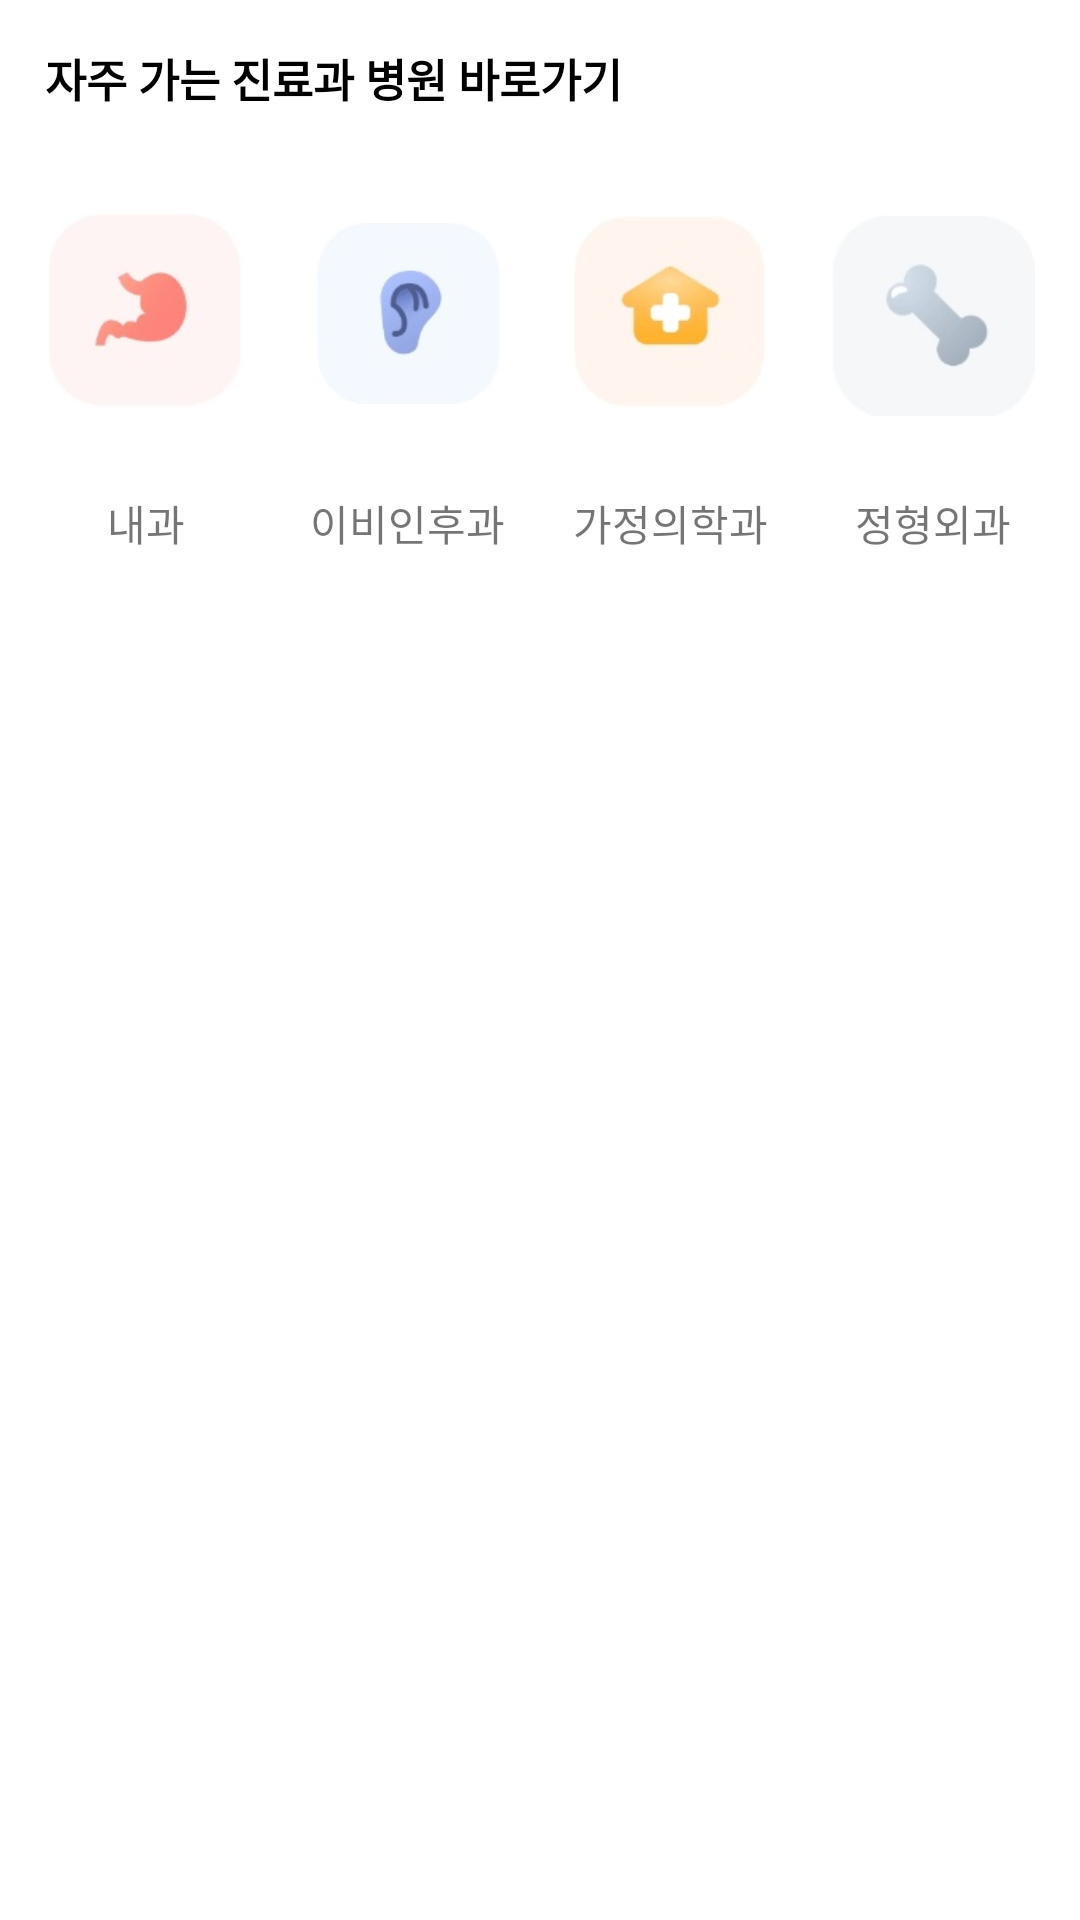

Screen size 1080 x 1920. Icon name, then its center in pixels as point (x, y):
home favorite bones: point (934, 316)
home favorite ears: point (411, 312)
home favorite famliy: point (670, 306)
home favorite medicine: point (141, 309)
